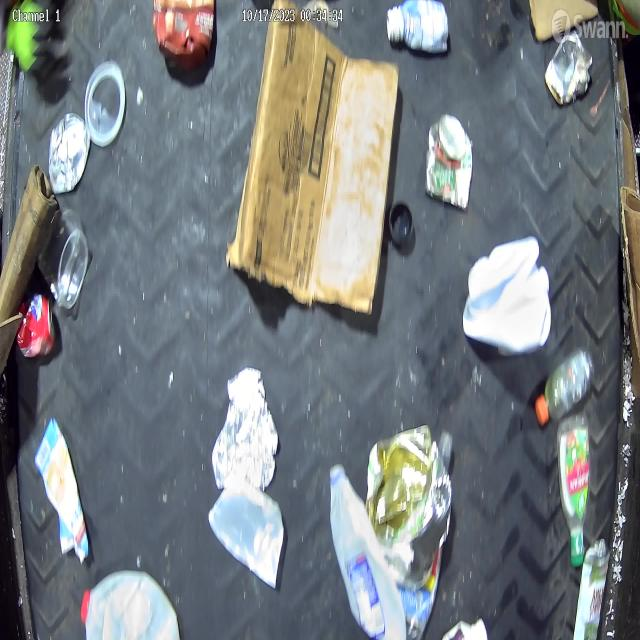milk-jug: (327, 463, 407, 638), (79, 571, 185, 639)
